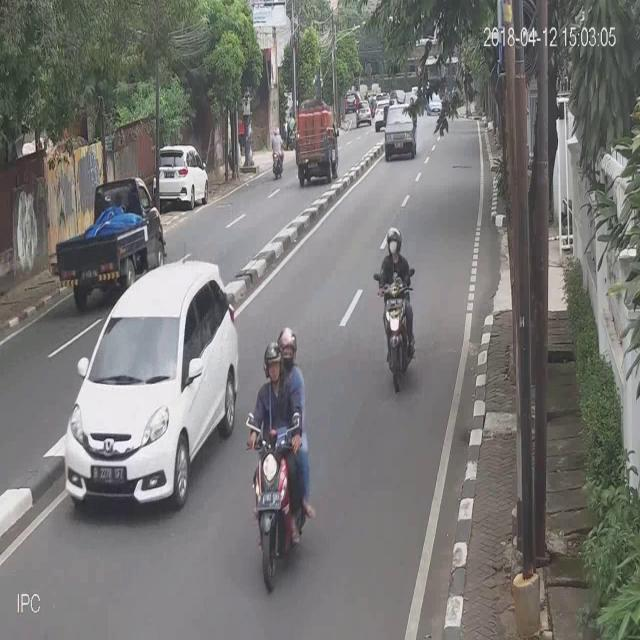bus: (244, 324, 317, 596), (373, 224, 417, 393), (270, 122, 284, 178)
motorcycle: (62, 258, 238, 517), (152, 142, 209, 210), (382, 100, 414, 162)
truck: (50, 174, 167, 304), (293, 104, 338, 183)
